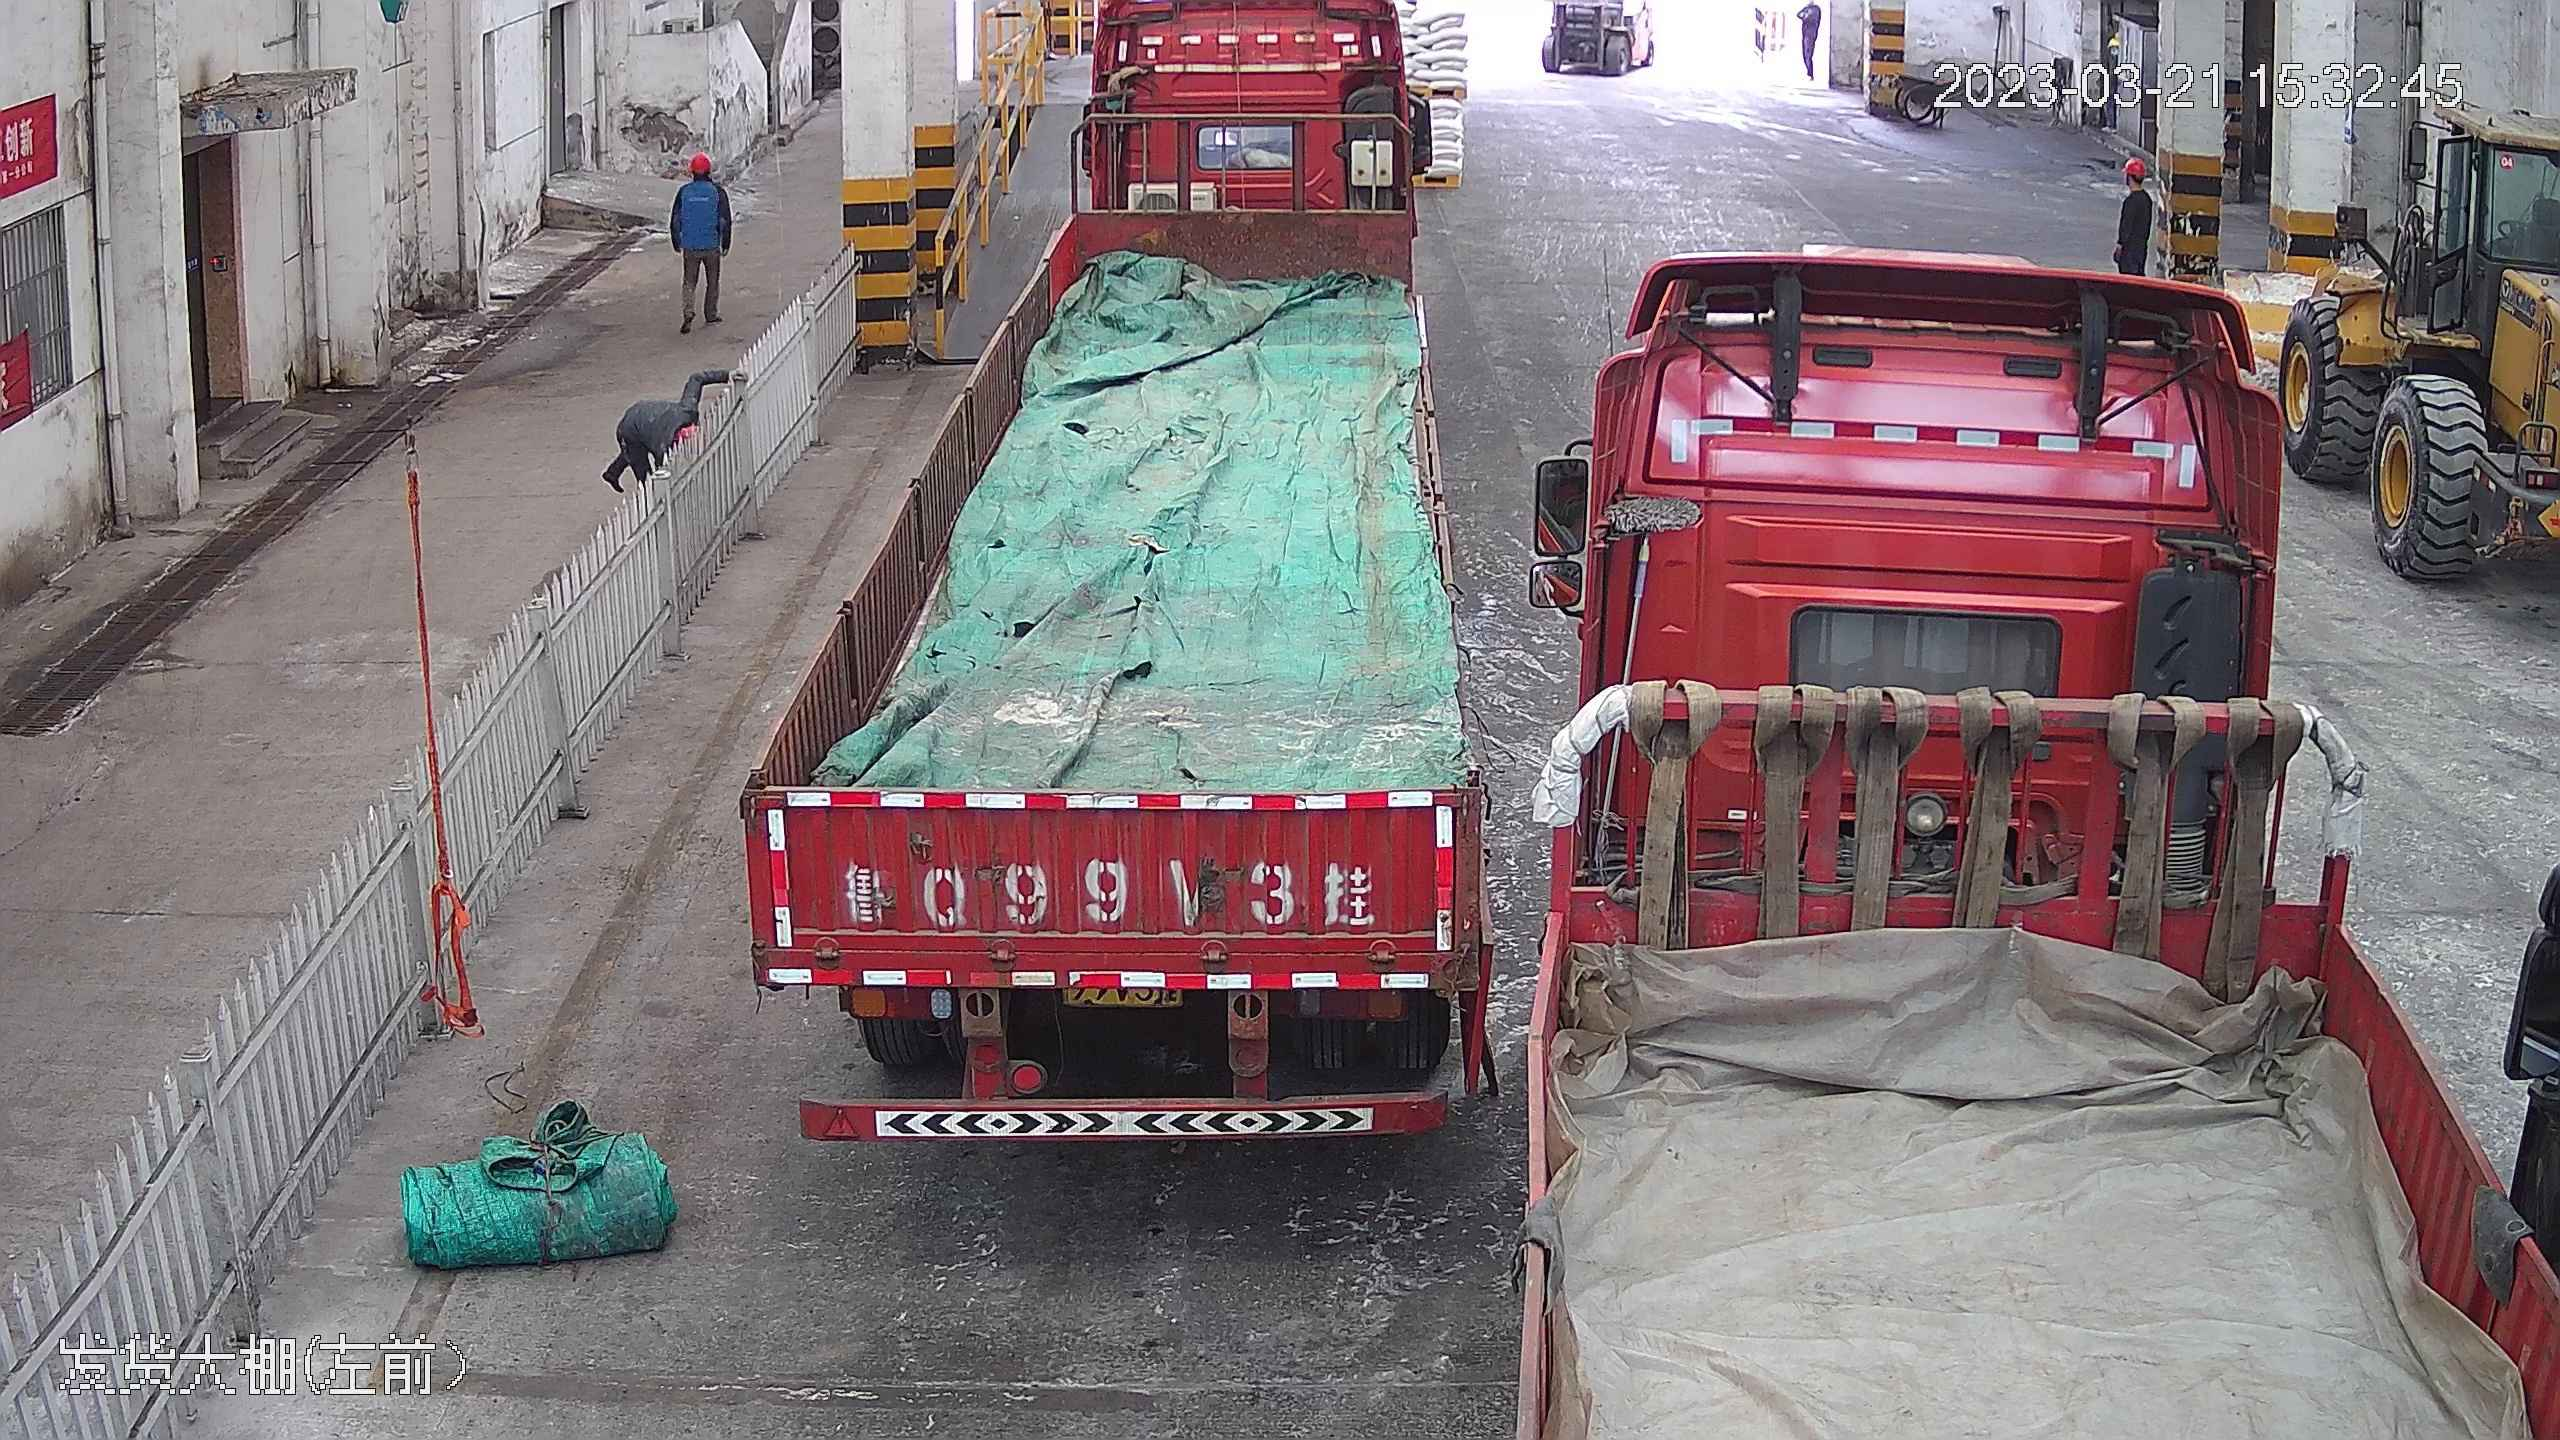head: (673, 146, 726, 207), (2114, 155, 2160, 217)
helmet: (684, 146, 714, 171), (2120, 157, 2149, 180)
people: (662, 140, 735, 327), (603, 379, 712, 488), (2112, 159, 2160, 289)
truck: (1505, 224, 2509, 1440), (748, 1, 1486, 1146)
